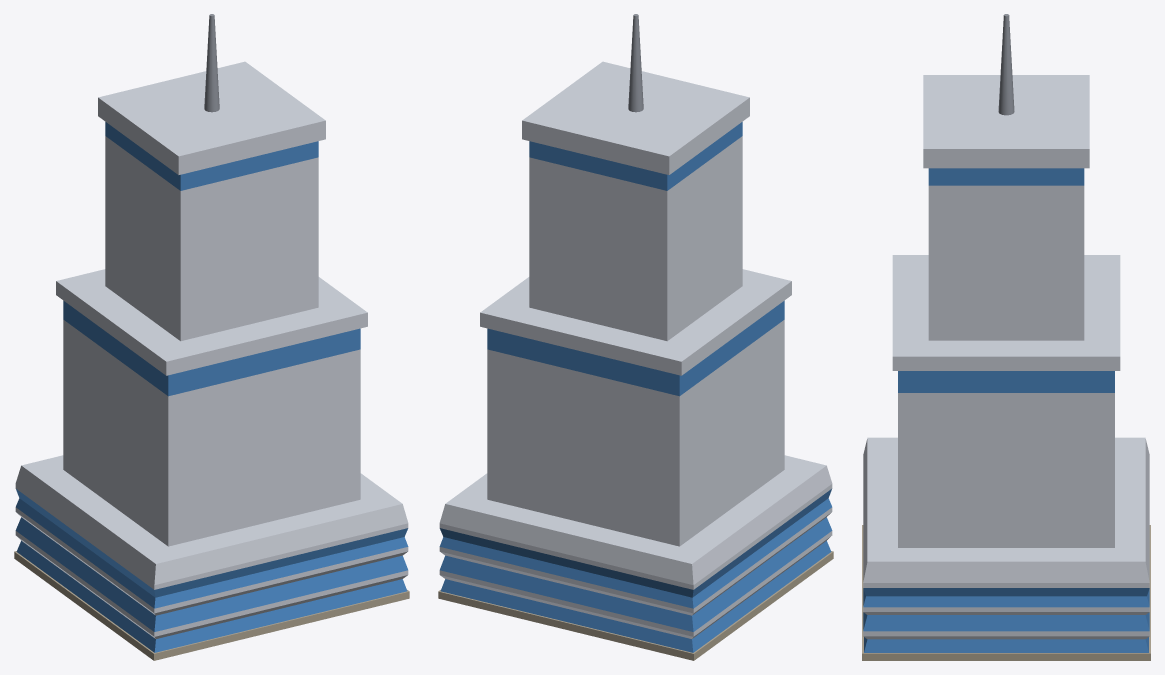
File: Kit_SteppedTower.glb
The picture shows the model from 3 angles, left to right: view 1: azimuth 30°, elevation 25°; view 2: azimuth 150°, elevation 25°; view 3: azimuth 270°, elevation 25°; orthographic projection. The views are drawn at different scales.
Parts seen in each view (by area): view 1: Kit_SteppedTower_Crown, Kit_SteppedTower_Base, Kit_SteppedTower_Shaft; view 2: Kit_SteppedTower_Crown, Kit_SteppedTower_Base, Kit_SteppedTower_Shaft; view 3: Kit_SteppedTower_Crown, Kit_SteppedTower_Base, Kit_SteppedTower_Shaft.
Boxes of the visible parts, left/top/right/bottom form: Kit_SteppedTower_Crown: left=56, top=14, right=367, bottom=546; Kit_SteppedTower_Base: left=14, top=455, right=409, bottom=660; Kit_SteppedTower_Shaft: left=15, top=461, right=408, bottom=652; Kit_SteppedTower_Crown: left=480, top=14, right=791, bottom=546; Kit_SteppedTower_Base: left=438, top=455, right=833, bottom=660; Kit_SteppedTower_Shaft: left=439, top=461, right=832, bottom=652; Kit_SteppedTower_Crown: left=892, top=14, right=1120, bottom=547; Kit_SteppedTower_Base: left=862, top=437, right=1150, bottom=660; Kit_SteppedTower_Shaft: left=863, top=437, right=1149, bottom=652.
Bounding box in the file's own units: 57 × 120 × 54.
